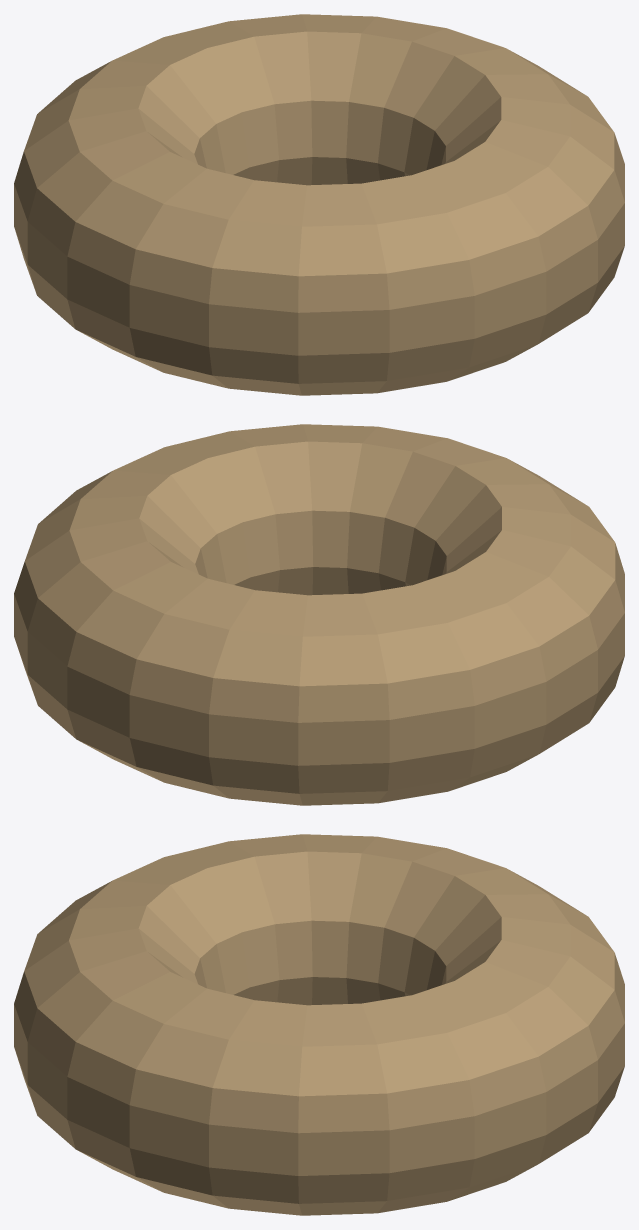
File: Donut3.glb
The picture shows the model from 3 angles, top to bottom: view 1: azimuth 30°, elevation 25°; view 2: azimuth 150°, elevation 25°; view 3: azimuth 270°, elevation 25°; orthographic projection.
Visible parts, largest first — view 1: Donut3; view 2: Donut3; view 3: Donut3.
Part boxes in pixels (left/top/right/bottom): Donut3: left=14, top=14, right=624, bottom=395; Donut3: left=14, top=424, right=624, bottom=805; Donut3: left=14, top=834, right=624, bottom=1215.
Bounding box in the file's own units: 0.8591 × 0.2801 × 0.8566.
